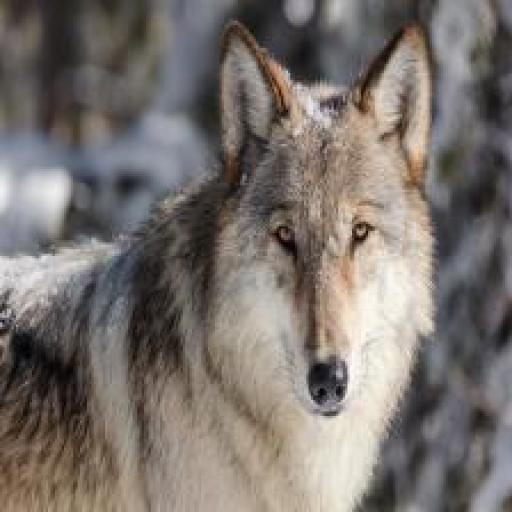wolf: (0, 9, 455, 512)
